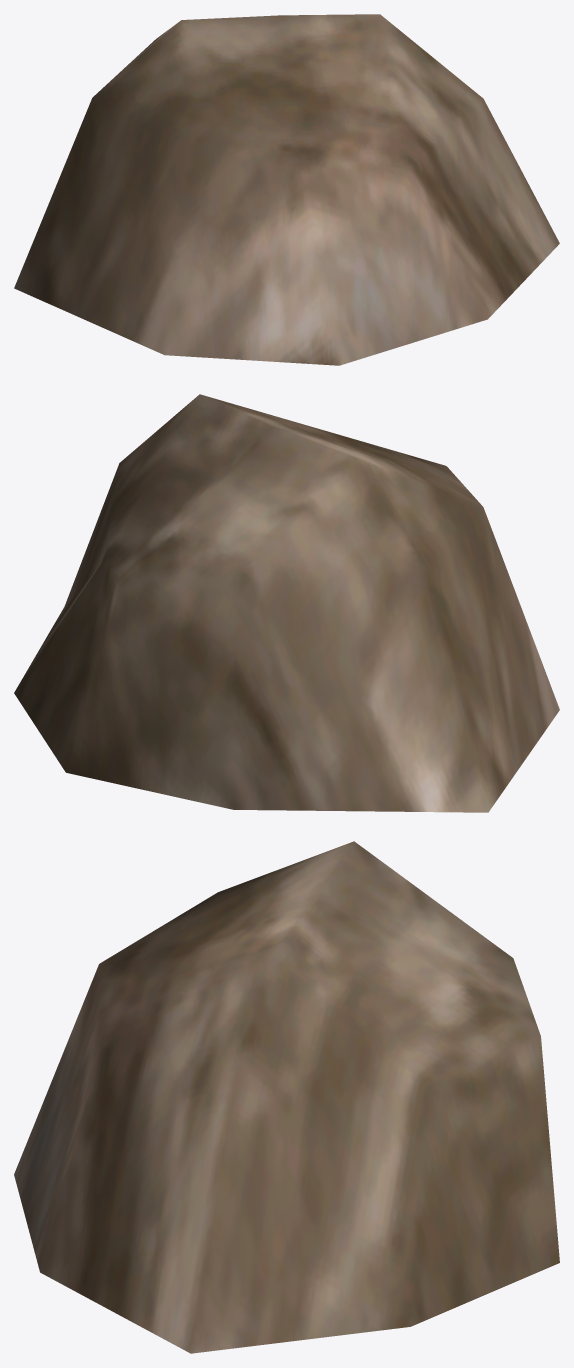
Rendered from OVERHILL_A_01_ROCK83.fbx.
3 views of the same model, one above another, from view 1: azimuth 30°, elevation 25°; view 2: azimuth 150°, elevation 25°; view 3: azimuth 270°, elevation 25° (orthographic). The views are drawn at different scales.
Visible parts, largest first — view 1: OVERHILL_A_01_ROCK83; view 2: OVERHILL_A_01_ROCK83; view 3: OVERHILL_A_01_ROCK83.
Part boxes in pixels (<box>): OVERHILL_A_01_ROCK83: <box>14,14,559,365</box>; OVERHILL_A_01_ROCK83: <box>14,394,559,812</box>; OVERHILL_A_01_ROCK83: <box>14,841,559,1353</box>.
Size of the model in its own units: 4360 by 2312 by 3585.
Materials: 1 (1 with a texture image).
